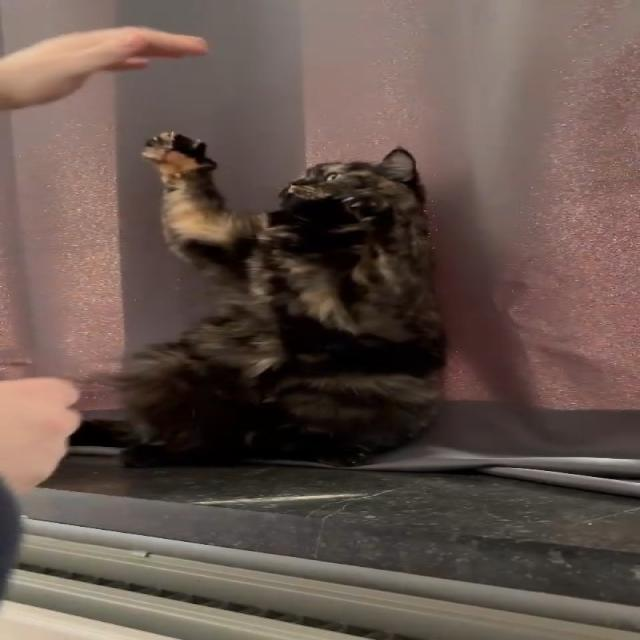authorized: (97, 130, 448, 468)
